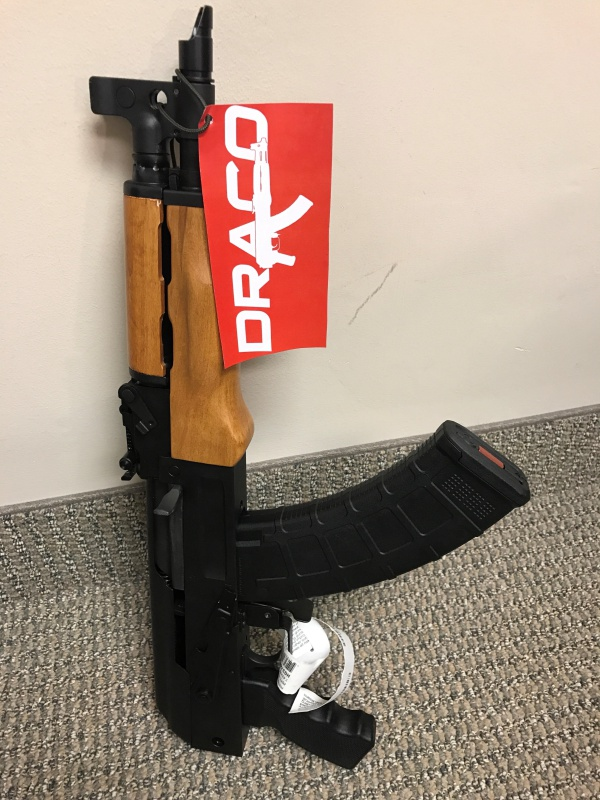ak47: (58, 3, 451, 767)
